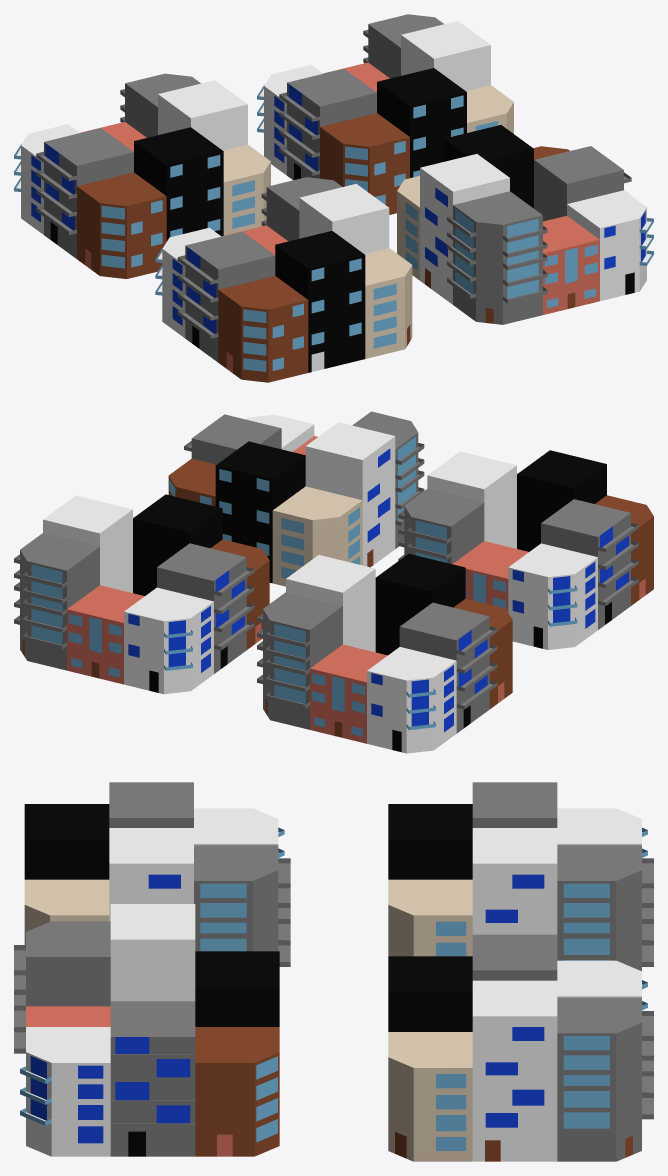
Rendered from BuildingCluster cluster.fbx.
3 views of the same model, one above another, from view 1: azimuth 30°, elevation 25°; view 2: azimuth 150°, elevation 25°; view 3: azimuth 270°, elevation 25° (orthographic). The views are drawn at different scales.
Visible parts, largest first — view 1: Buildings 1 Sub3; view 2: Buildings 1 Sub3; view 3: Buildings 1 Sub3.
Part boxes in pixels (box(x1,y1,x2,y2)): Buildings 1 Sub3: box(14, 14, 653, 382); Buildings 1 Sub3: box(14, 411, 653, 753); Buildings 1 Sub3: box(14, 782, 653, 1161).
Size of the model in its own units: 4312 by 1090 by 4348.
